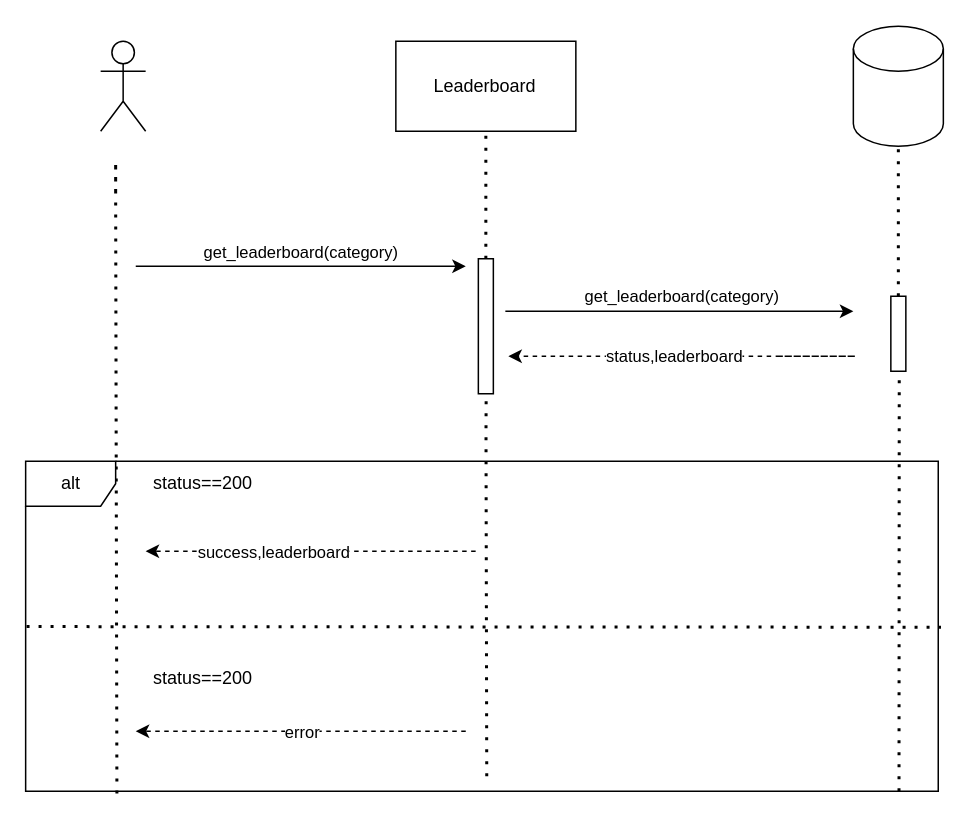
Some shapes in this 971 by 824 pixel diagram are drawn without their labels. The shapes that lost their labels are listed below. From the top down, each one's centre as x and y in pixels, then its label:
At pixel 122 85: "Member".
At pixel 897 85: "Database".
